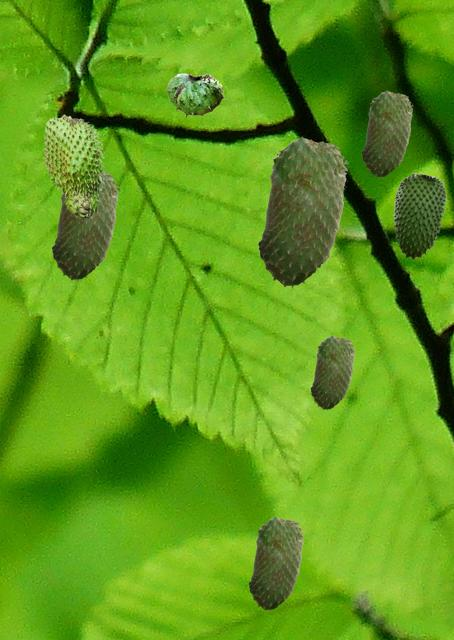guyabano: (257, 136, 347, 287), (51, 172, 118, 280), (42, 114, 105, 220), (248, 516, 303, 610), (393, 172, 445, 259), (361, 90, 412, 177), (310, 335, 354, 409), (166, 73, 223, 117)
